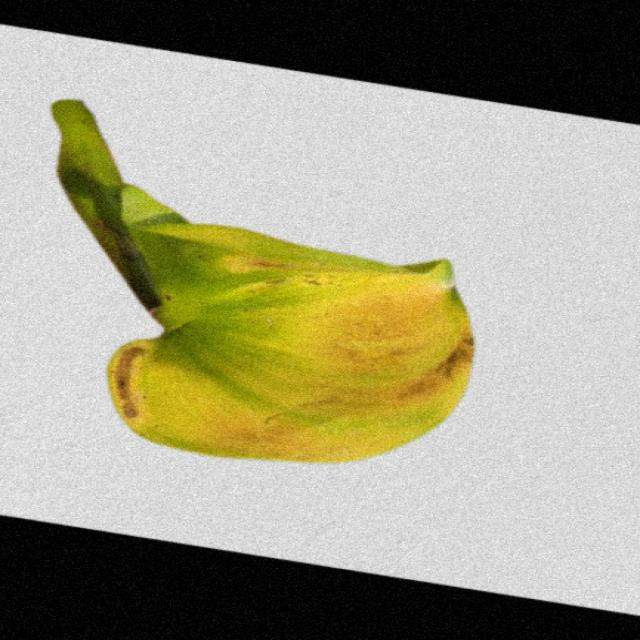daun berpenyakit kuning: (52, 101, 473, 462)
